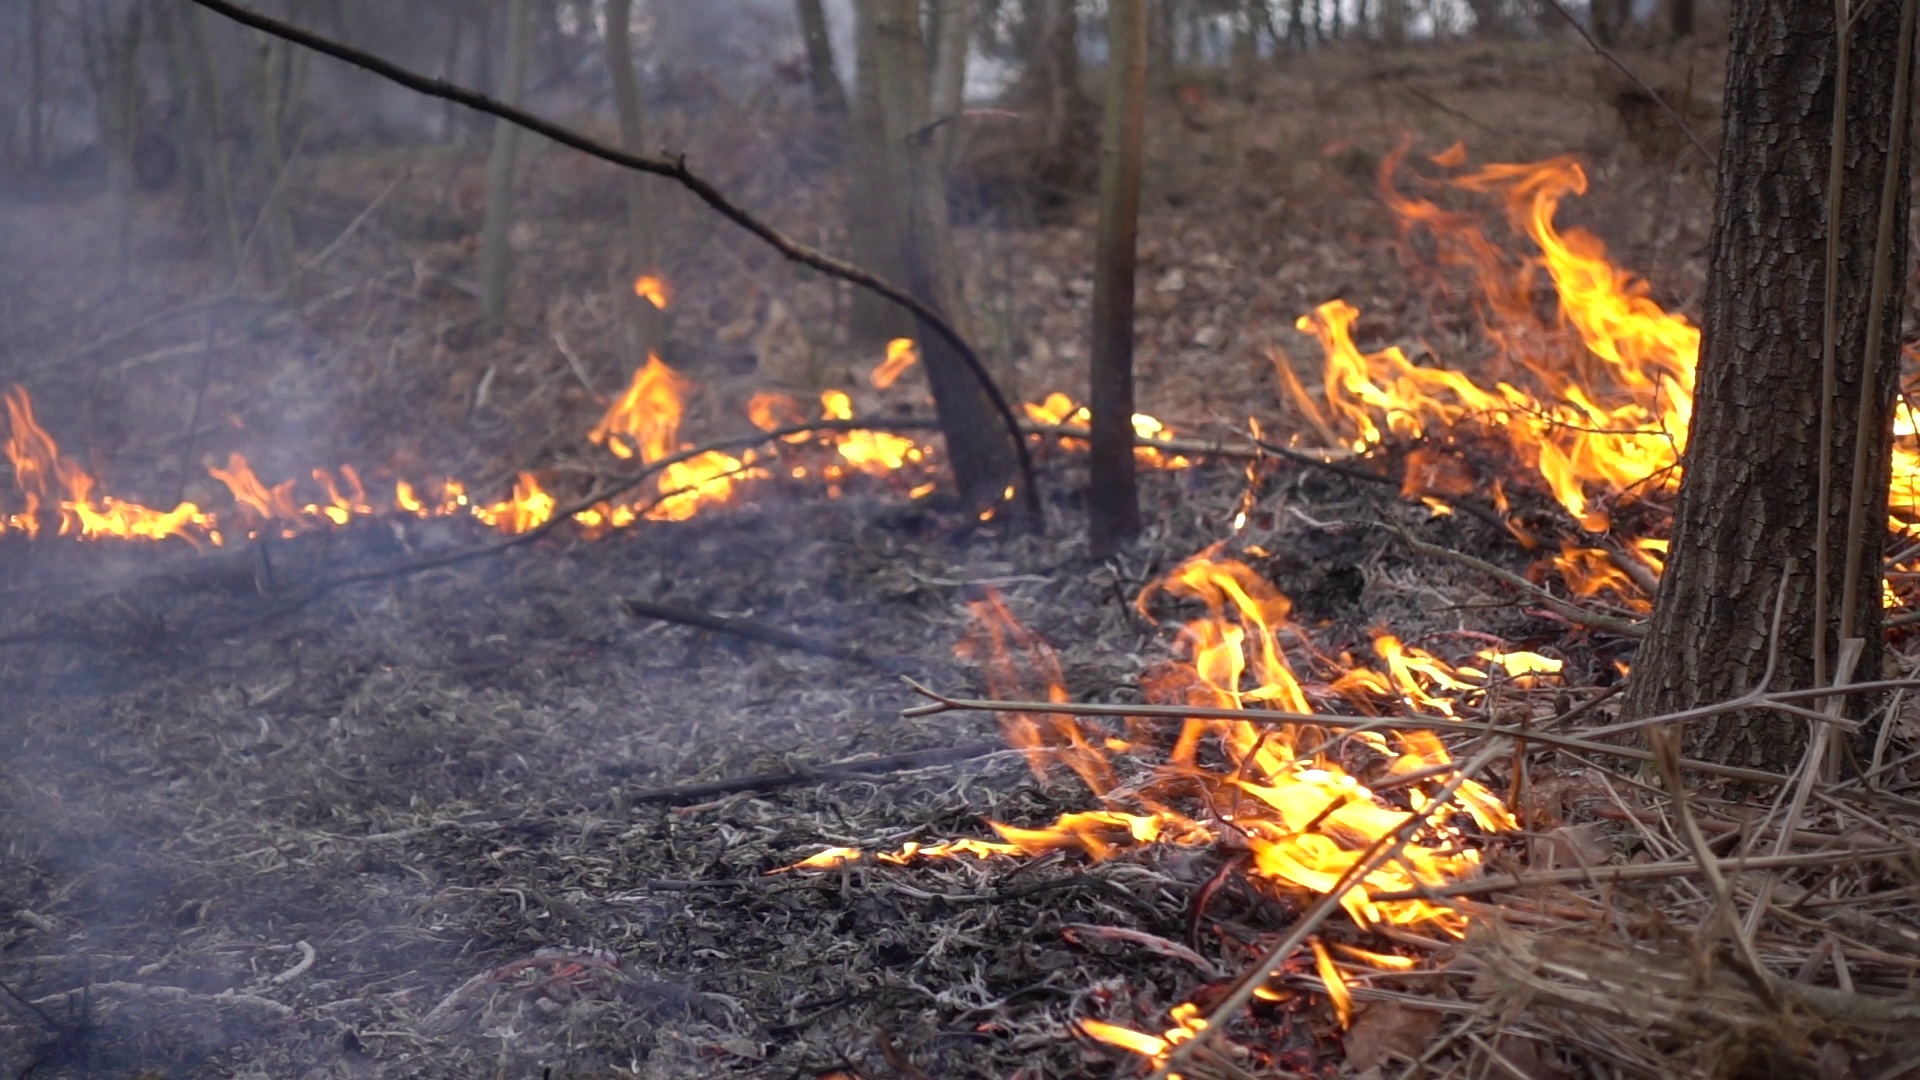fire: (972, 553, 1513, 1006), (1279, 170, 1701, 491), (1, 381, 186, 535), (601, 356, 738, 512), (207, 455, 371, 524), (972, 808, 1141, 851), (824, 425, 920, 473), (1888, 407, 1920, 531), (501, 472, 553, 533)
